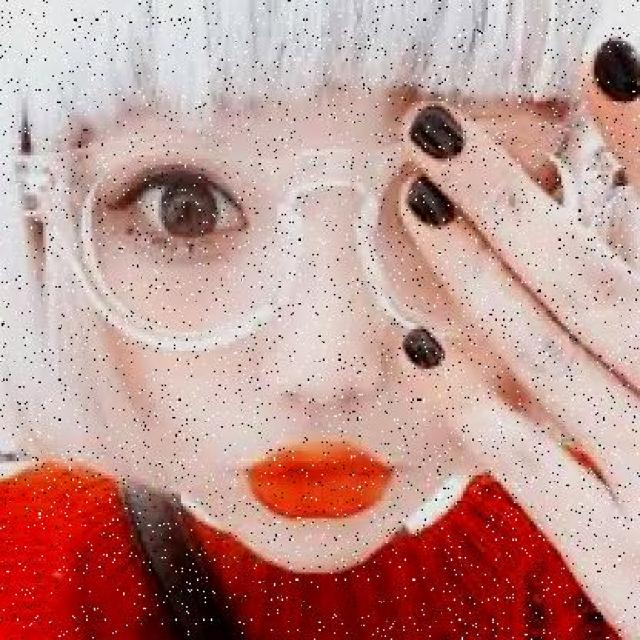glasses: (8, 134, 607, 351)
